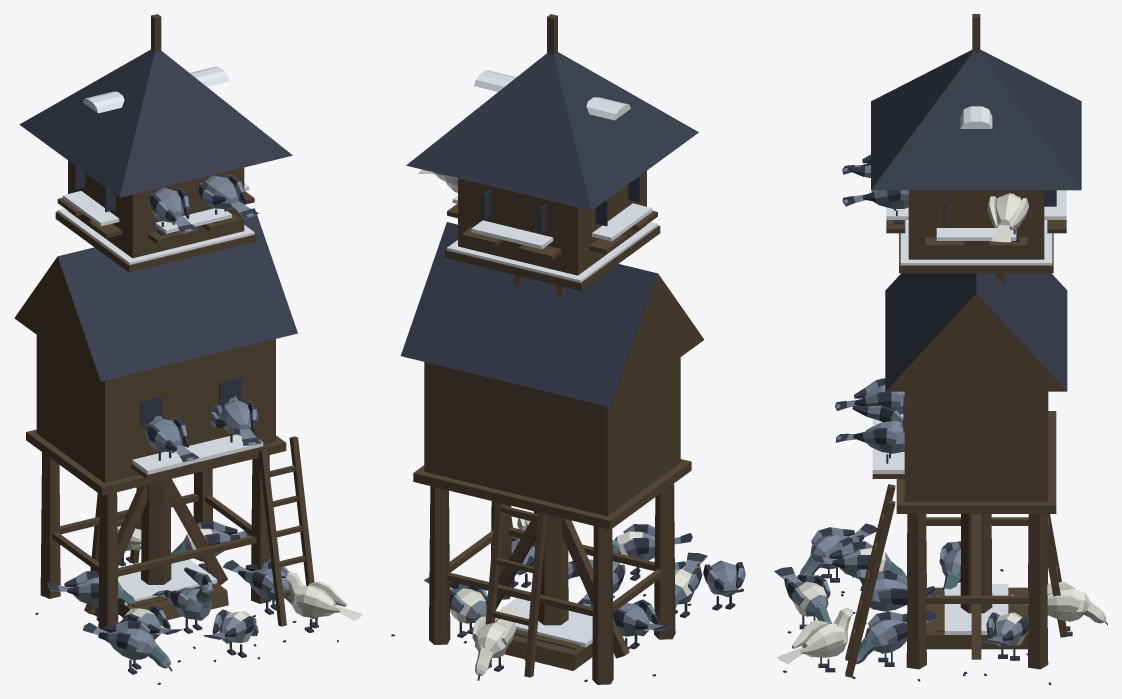
The model's file is fuellung_taube.glb.
3 renders of one model, left to right at view 1: azimuth 30°, elevation 25°; view 2: azimuth 150°, elevation 25°; view 3: azimuth 270°, elevation 25°, orthographic. The views are drawn at different scales.
Parts seen in each view (by area): view 1: Taubenhaus, Taubenschlag, Taubenfutter, Taubenschlag_Winter, Taubenhaus_Winter, Taubenfutter_Winter; view 2: Taubenhaus, Taubenschlag, Taubenfutter, Taubenschlag_Winter, Taubenfutter_Winter; view 3: Taubenhaus, Taubenschlag, Taubenfutter, Taubenschlag_Winter, Taubenfutter_Winter, Taubenhaus_Winter.
Part boxes in pixels (bbox=[...]): Taubenhaus: bbox=[14, 208, 362, 684]; Taubenschlag: bbox=[19, 14, 292, 639]; Taubenfutter: bbox=[47, 521, 269, 633]; Taubenschlag_Winter: bbox=[57, 66, 254, 264]; Taubenhaus_Winter: bbox=[132, 434, 263, 474]; Taubenfutter_Winter: bbox=[118, 559, 217, 605]; Taubenhaus: bbox=[400, 222, 745, 684]; Taubenschlag: bbox=[406, 14, 707, 677]; Taubenfutter: bbox=[391, 540, 672, 681]; Taubenschlag_Winter: bbox=[447, 70, 657, 282]; Taubenfutter_Winter: bbox=[496, 598, 592, 647]; Taubenhaus: bbox=[774, 273, 1067, 678]; Taubenschlag: bbox=[811, 14, 1081, 681]; Taubenfutter: bbox=[852, 541, 1107, 684]; Taubenschlag_Winter: bbox=[886, 106, 1066, 265]; Taubenfutter_Winter: bbox=[944, 584, 1008, 634]; Taubenhaus_Winter: bbox=[872, 414, 904, 473].
Bounding box in the file's own units: 1.85 × 4.24 × 2.09.
